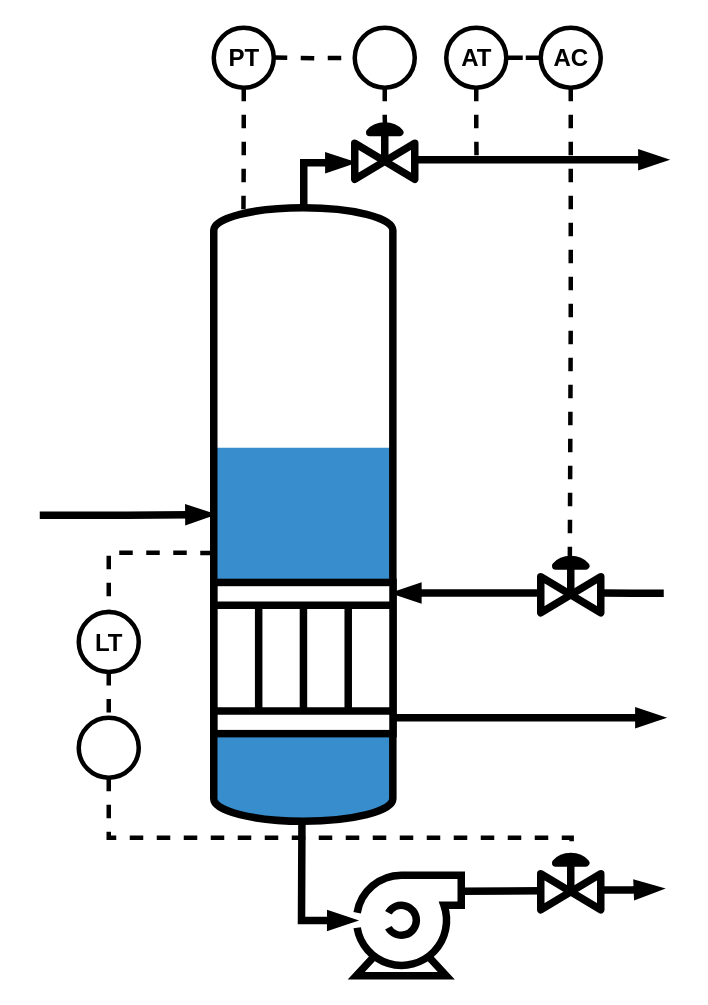
Some shapes in this 708 by 1005 pixel diagram are drawn without their labels. Each missing label, with the centre of its shape:
"LC" goes at (x=108, y=747).
"PC" goes at (x=384, y=57).
